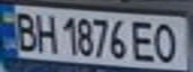1: (57, 12, 78, 55)
6: (109, 16, 133, 61)
7: (90, 16, 112, 58)
8: (75, 15, 93, 57)
B: (9, 8, 39, 53)
E: (127, 17, 160, 63)
H: (30, 10, 60, 54)
O: (151, 19, 184, 64)
